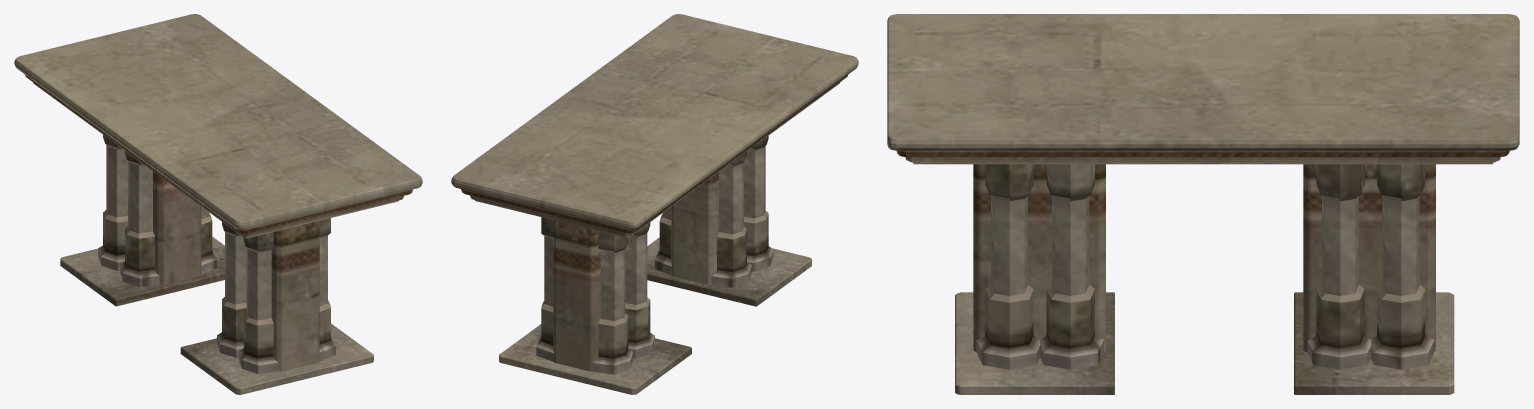
Rendered from TW2_5_FUR_01_10-transformed.glb.
The picture shows the model from 3 angles, left to right: view 1: azimuth 30°, elevation 25°; view 2: azimuth 150°, elevation 25°; view 3: azimuth 270°, elevation 25°; orthographic projection. The views are drawn at different scales.
Visible parts, largest first — view 1: default; view 2: default; view 3: default.
Part boxes in pixels (bbox=[...]): default: bbox=[14, 14, 422, 394]; default: bbox=[451, 14, 858, 394]; default: bbox=[887, 14, 1519, 394].
Size of the model in its own units: 1 by 1 by 2.11.
Materials: 1 (1 with a texture image).
